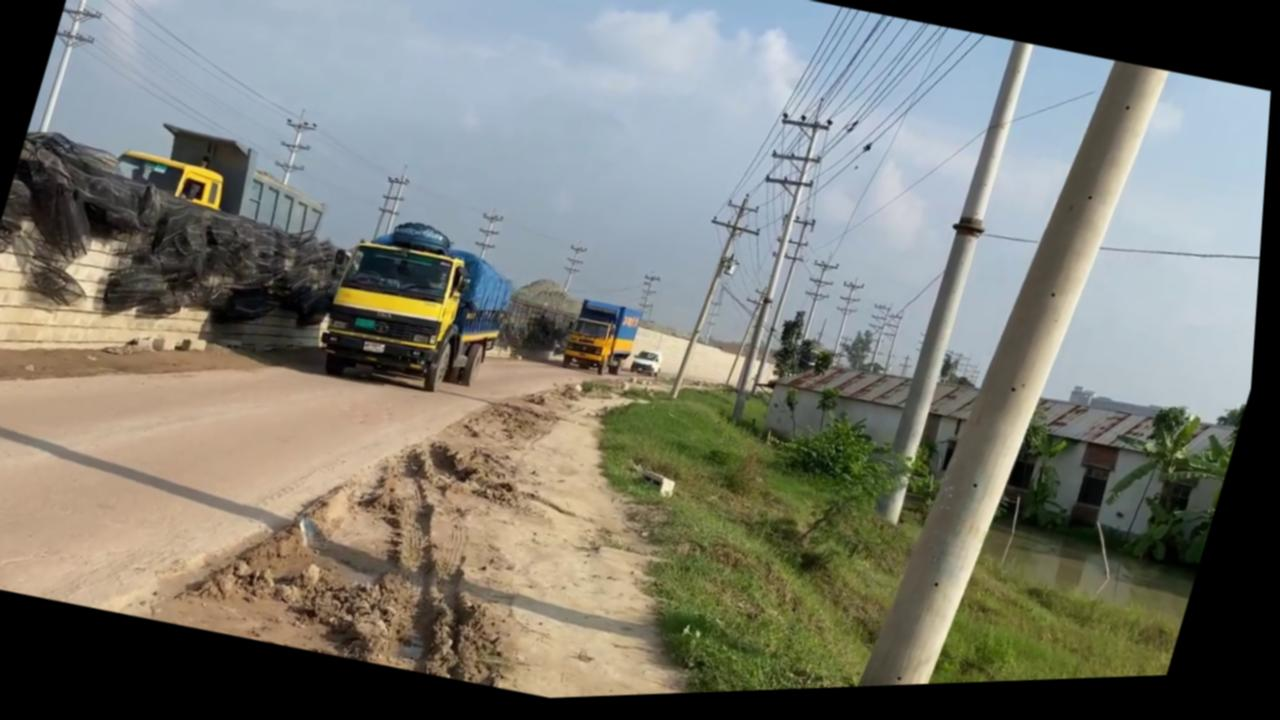Car: (633, 351, 670, 383)
Garbage: (0, 114, 373, 368)
Pole: (851, 52, 1172, 694), (874, 46, 1040, 533)
Sidewalk: (975, 508, 1212, 645)
Traffic-sign: (1092, 398, 1248, 581)
Tree: (308, 205, 532, 412), (104, 109, 346, 249), (108, 144, 236, 216), (561, 298, 649, 386)
Upstairs: (0, 200, 235, 394)
